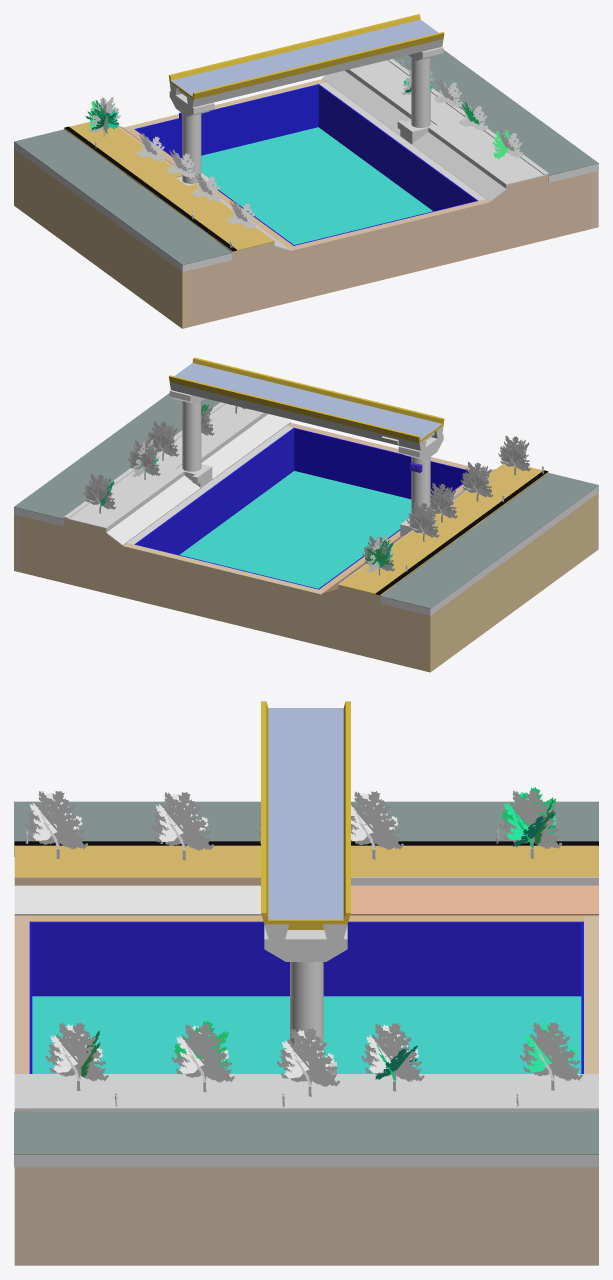
The model's file is PUENTES.glb.
3 renders of one model, top to bottom at view 1: azimuth 30°, elevation 25°; view 2: azimuth 150°, elevation 25°; view 3: azimuth 270°, elevation 25°, orthographic. The views are drawn at different scales.
Parts seen in each view (by area): view 1: Import Symbol location <Not Shared> [168684], Import Symbol location <Not Shared> [168691], Import Symbol location <Not Shared> [168698], Import Symbol location <Not Shared> [168681]_[168626], Import Symbol location <Not Shared> [168705]_[168626], Import Symbol location <Not Shared> [168700], Import Symbol location <Not Shared> [168702], Import Symbol location <Not Shared> [168688], Import Symbol location <Not Shared> [168696], Import Symbol location <Not Shared> [168680], Import Symbol location <Not Shared> [168685]_[168650], Import Symbol location <Not Shared> [168685]_[168656] (+15 smaller); view 2: Import Symbol location <Not Shared> [168697], Import Symbol location <Not Shared> [168691], Import Symbol location <Not Shared> [168698], Import Symbol location <Not Shared> [168681]_[168626], Import Symbol location <Not Shared> [168702], Import Symbol location <Not Shared> [168706], Import Symbol location <Not Shared> [168705]_[168626], Import Symbol location <Not Shared> [168688], Import Symbol location <Not Shared> [168680], Import Symbol location <Not Shared> [168696], Import Symbol location <Not Shared> [168685]_[168650], Import Symbol location <Not Shared> [168685]_[168647] (+19 smaller); view 3: Import Symbol location <Not Shared> [168707], Import Symbol location <Not Shared> [168704], Import Symbol location <Not Shared> [168691], Import Symbol location <Not Shared> [168705]_[168626], Import Symbol location <Not Shared> [168696], Import Symbol location <Not Shared> [168680], Import Symbol location <Not Shared> [168688], Import Symbol location <Not Shared> [168681]_[168626], Import Symbol location <Not Shared> [168687], Import Symbol location <Not Shared> [168690], Import Symbol location <Not Shared> [168705], Import Symbol location <Not Shared> [168685]_[168650] (+18 smaller).
Boxes of the visible parts, left/top/right/bottom form: Import Symbol location <Not Shared> [168684]: left=189, top=172, right=591, bottom=326; Import Symbol location <Not Shared> [168691]: left=201, top=127, right=432, bottom=244; Import Symbol location <Not Shared> [168698]: left=14, top=149, right=189, bottom=328; Import Symbol location <Not Shared> [168681]_[168626]: left=14, top=129, right=232, bottom=265; Import Symbol location <Not Shared> [168705]_[168626]: left=393, top=50, right=598, bottom=175; Import Symbol location <Not Shared> [168700]: left=134, top=84, right=319, bottom=157; Import Symbol location <Not Shared> [168702]: left=318, top=84, right=477, bottom=210; Import Symbol location <Not Shared> [168688]: left=64, top=122, right=273, bottom=251; Import Symbol location <Not Shared> [168696]: left=350, top=60, right=548, bottom=184; Import Symbol location <Not Shared> [168680]: left=171, top=19, right=438, bottom=95; Import Symbol location <Not Shared> [168685]_[168650]: left=168, top=14, right=444, bottom=99; Import Symbol location <Not Shared> [168685]_[168656]: left=186, top=39, right=443, bottom=107; Import Symbol location <Not Shared> [168697]: left=21, top=516, right=422, bottom=670; Import Symbol location <Not Shared> [168691]: left=180, top=471, right=411, bottom=588; Import Symbol location <Not Shared> [168698]: left=423, top=493, right=598, bottom=672; Import Symbol location <Not Shared> [168681]_[168626]: left=380, top=473, right=598, bottom=608; Import Symbol location <Not Shared> [168702]: left=135, top=428, right=294, bottom=554; Import Symbol location <Not Shared> [168706]: left=293, top=428, right=469, bottom=499; Import Symbol location <Not Shared> [168705]_[168626]: left=14, top=393, right=220, bottom=519; Import Symbol location <Not Shared> [168688]: left=339, top=464, right=548, bottom=595; Import Symbol location <Not Shared> [168680]: left=174, top=363, right=441, bottom=439; Import Symbol location <Not Shared> [168696]: left=64, top=403, right=262, bottom=528; Import Symbol location <Not Shared> [168685]_[168650]: left=169, top=357, right=444, bottom=442; Import Symbol location <Not Shared> [168685]_[168647]: left=169, top=382, right=426, bottom=450; Import Symbol location <Not Shared> [168707]: left=14, top=1167, right=598, bottom=1265; Import Symbol location <Not Shared> [168704]: left=32, top=921, right=581, bottom=996; Import Symbol location <Not Shared> [168691]: left=32, top=996, right=581, bottom=1073; Import Symbol location <Not Shared> [168705]_[168626]: left=14, top=1112, right=598, bottom=1154; Import Symbol location <Not Shared> [168696]: left=14, top=1074, right=598, bottom=1111; Import Symbol location <Not Shared> [168680]: left=268, top=708, right=343, bottom=919; Import Symbol location <Not Shared> [168688]: left=14, top=845, right=598, bottom=876; Import Symbol location <Not Shared> [168681]_[168626]: left=14, top=801, right=598, bottom=844; Import Symbol location <Not Shared> [168687]: left=350, top=885, right=598, bottom=915; Import Symbol location <Not Shared> [168690]: left=14, top=885, right=261, bottom=915; Import Symbol location <Not Shared> [168705]: left=14, top=1155, right=598, bottom=1167; Import Symbol location <Not Shared> [168685]_[168650]: left=261, top=701, right=350, bottom=929.
Bounding box in the file's own units: 328 × 122 × 230.
